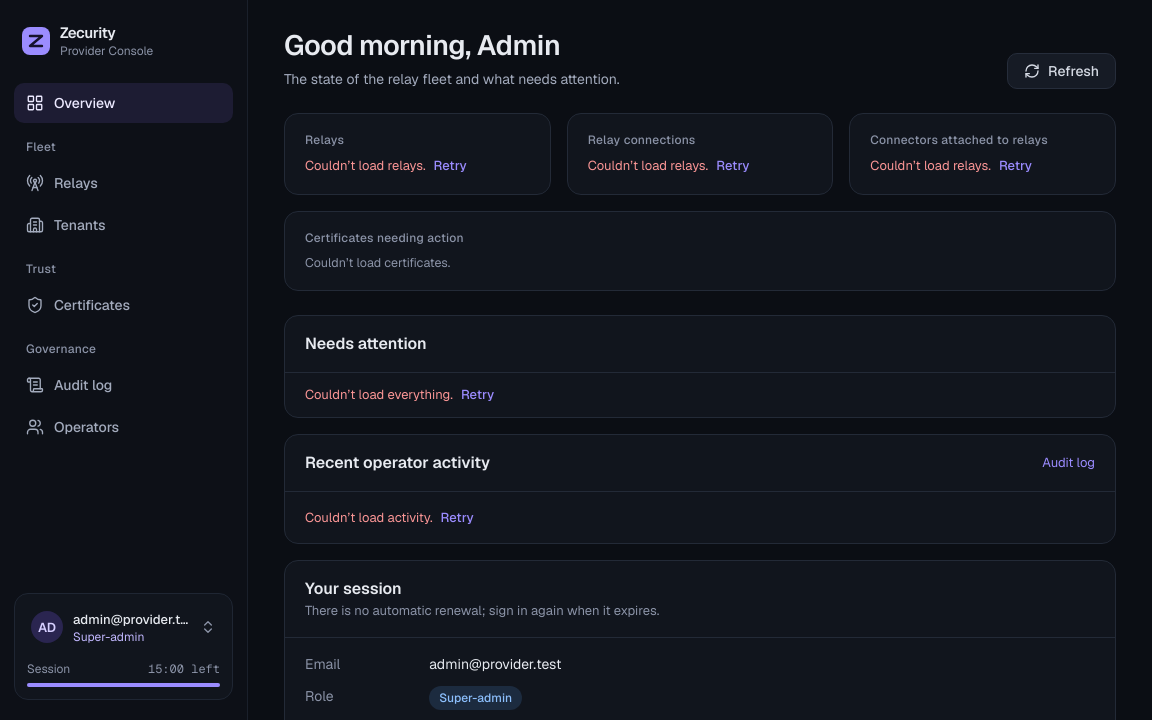
Layout › account menu → Sign out logs out on the server and shows Login
Click the button with aria-label "Account menu" at (124,627), box [27, 606, 220, 649]
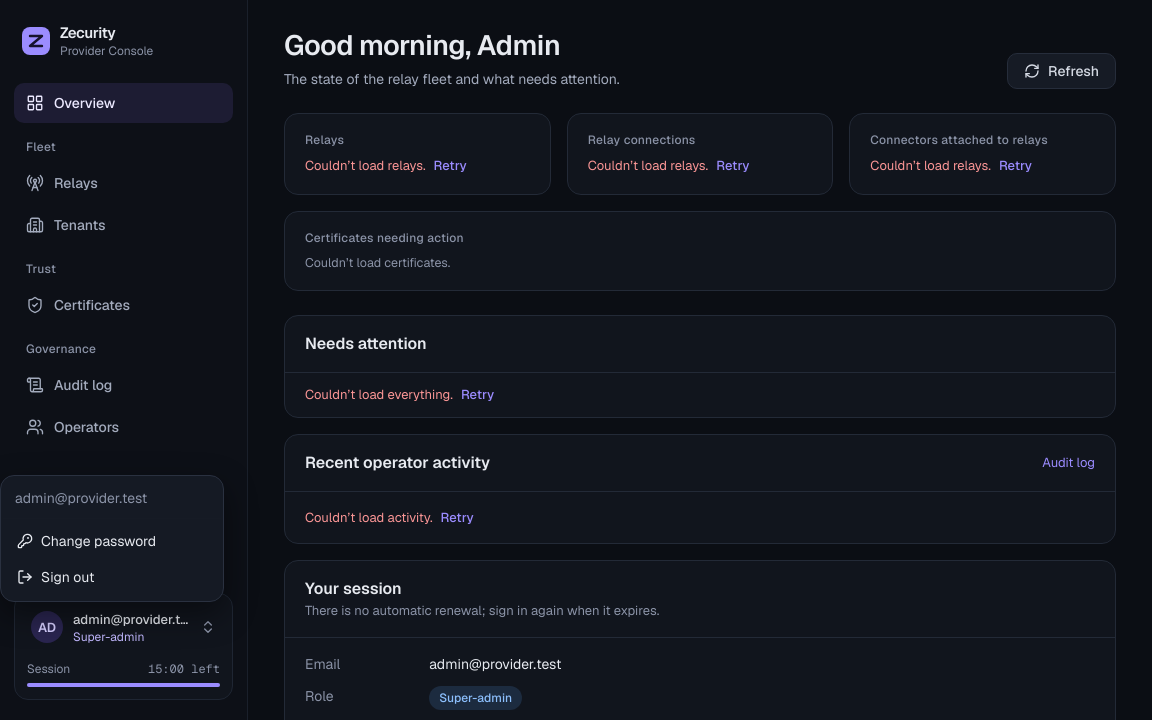
Click the menu item "Sign out" at (56,577), box [17, 568, 94, 586]
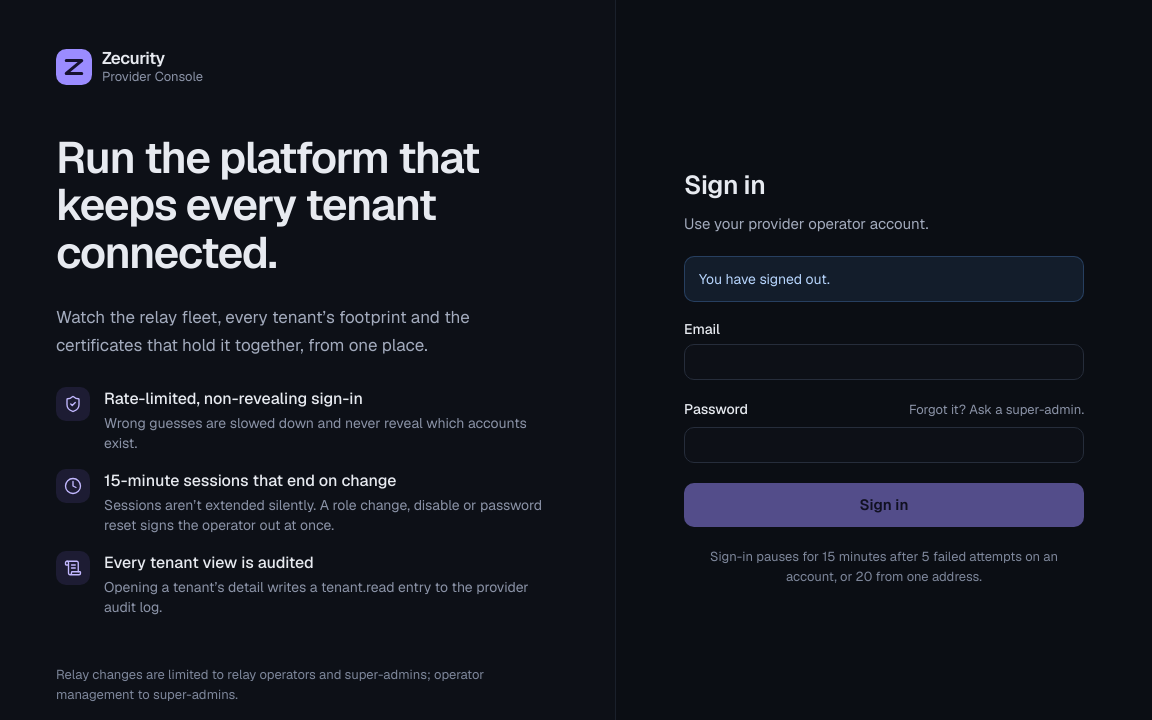
Expected: the text "You have signed out." is shown, [699, 270, 830, 288]
